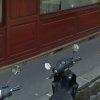Motorcycle: (39, 42, 90, 100)
